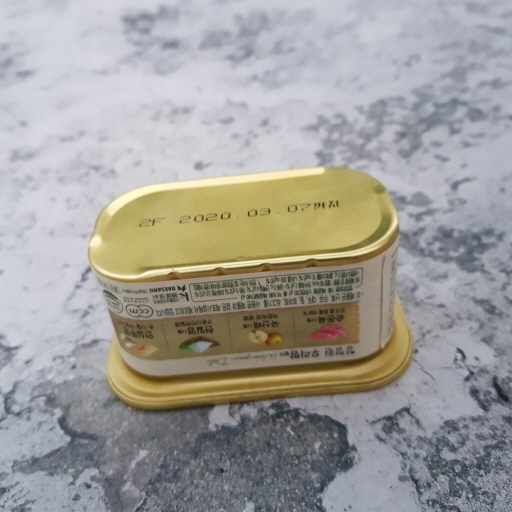Metal_2: (91, 166, 414, 406)
